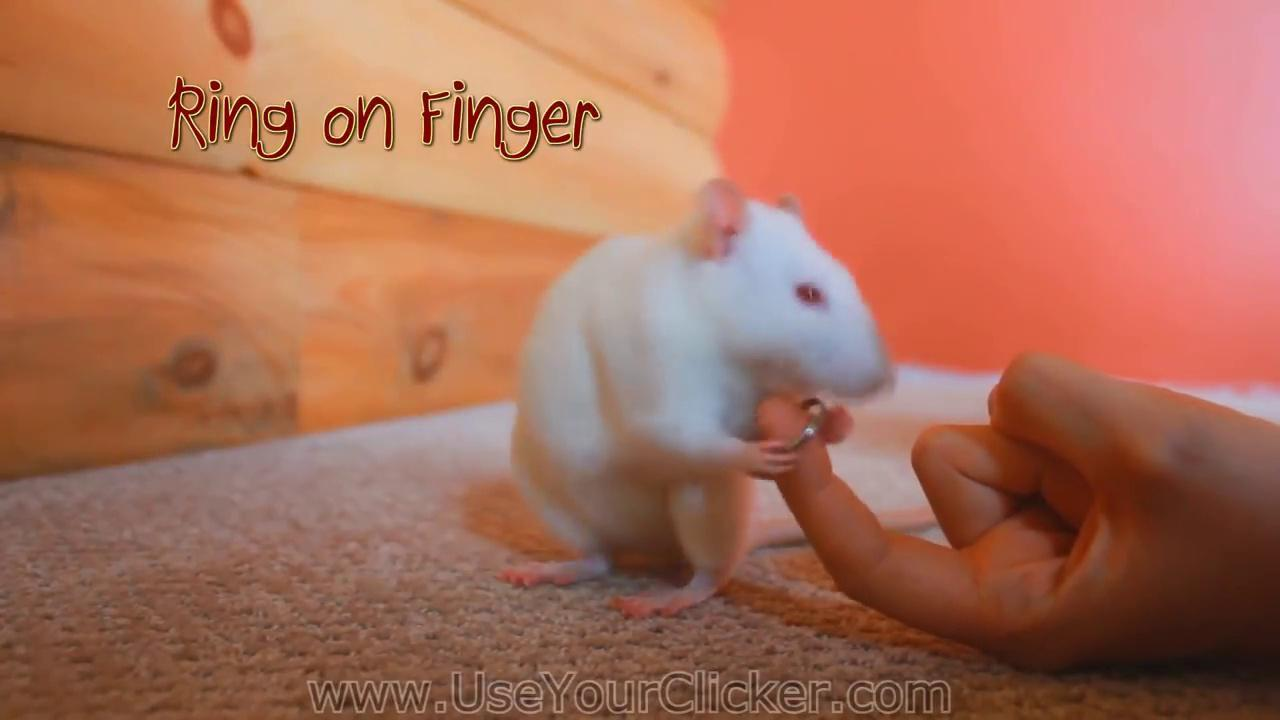rat: (511, 177, 889, 621)
